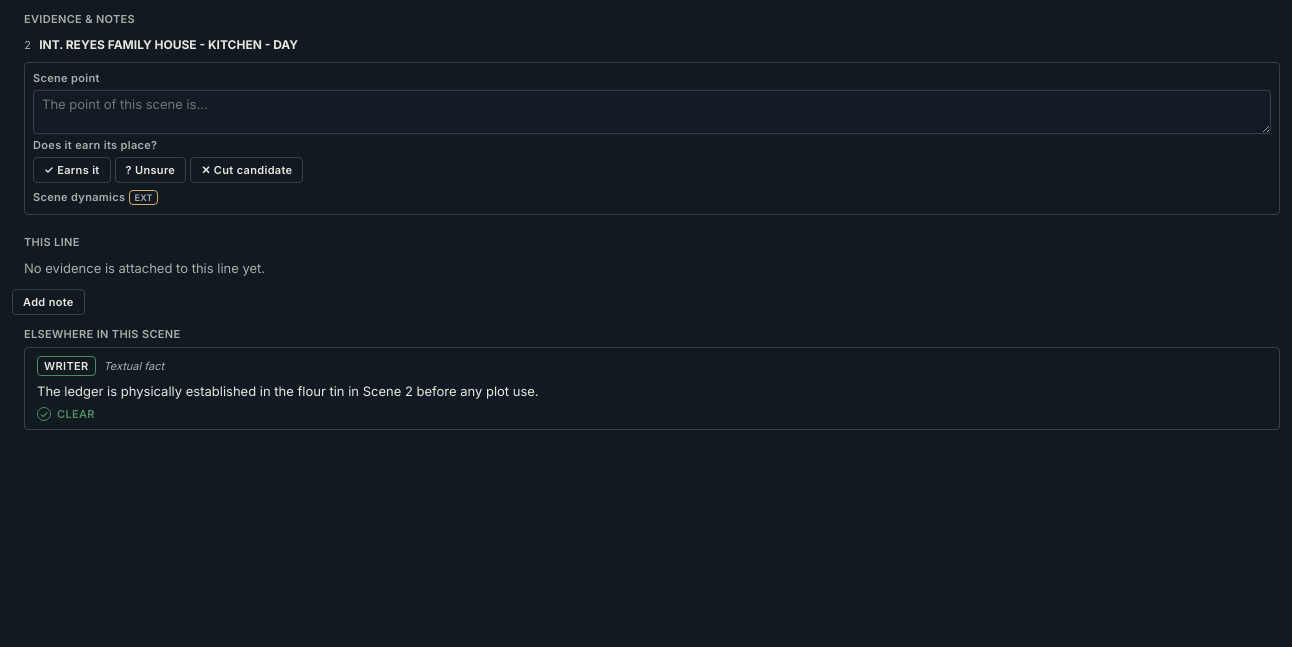
note authoring in the inspector › cannot save an empty note
The width and height of the screenshot is (1292, 647).
Click the button "Add note" at [48, 302], box [12,290,85,316]
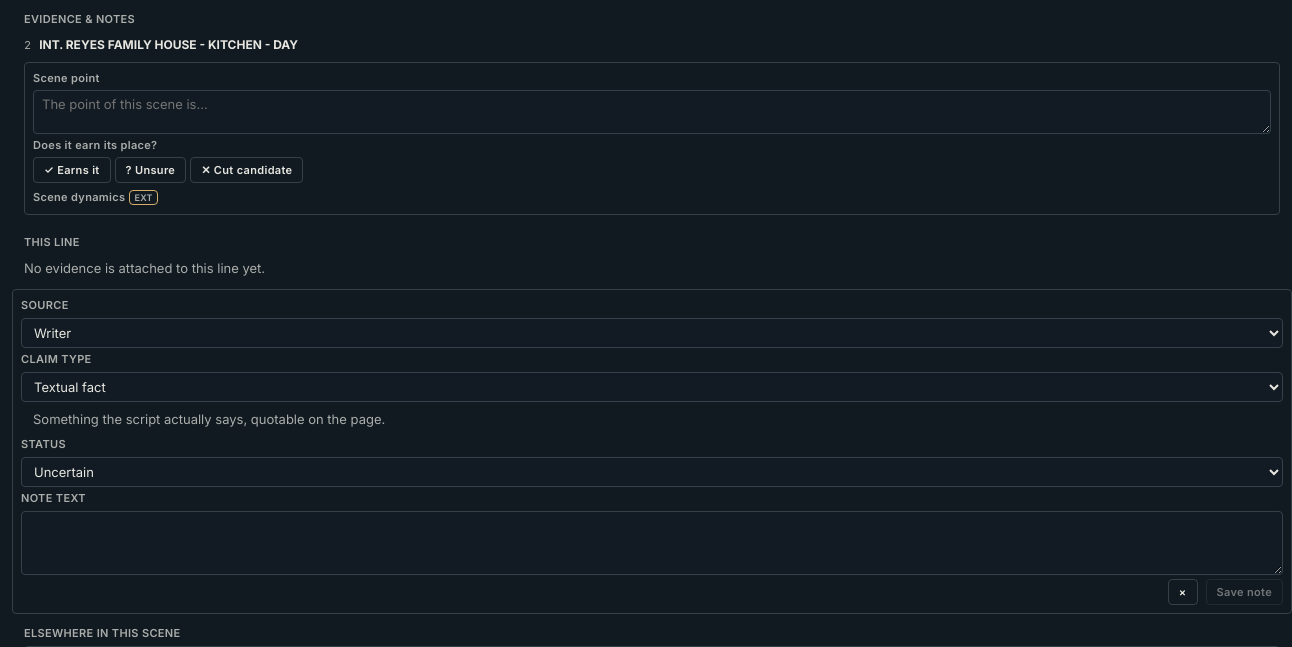
Now the button "Save note" is disabled, box [1206,579,1283,605]
